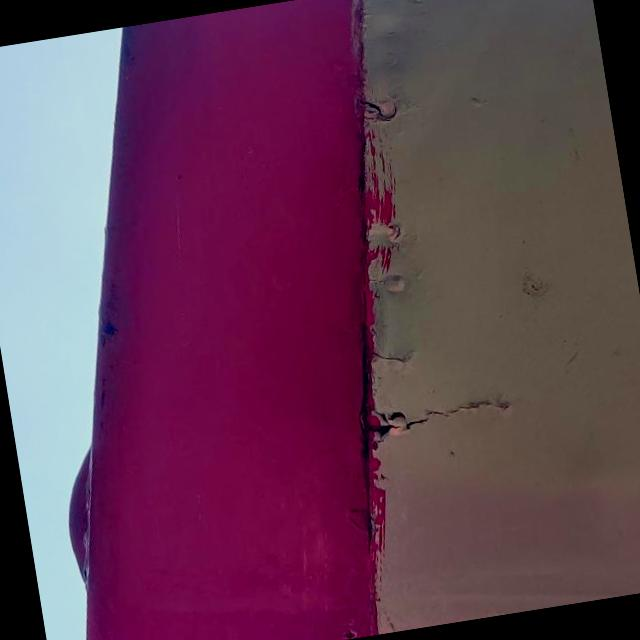crack: (348, 374, 526, 454), (342, 84, 398, 135), (362, 338, 413, 381)
